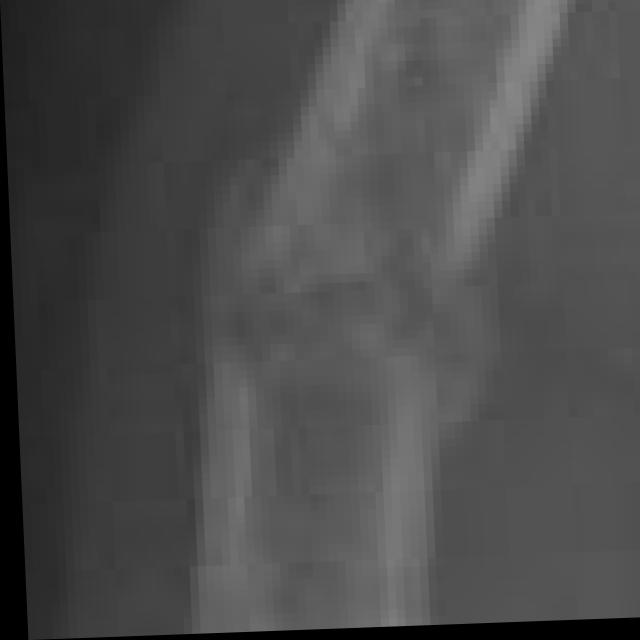fracture: (19, 2, 640, 629)
